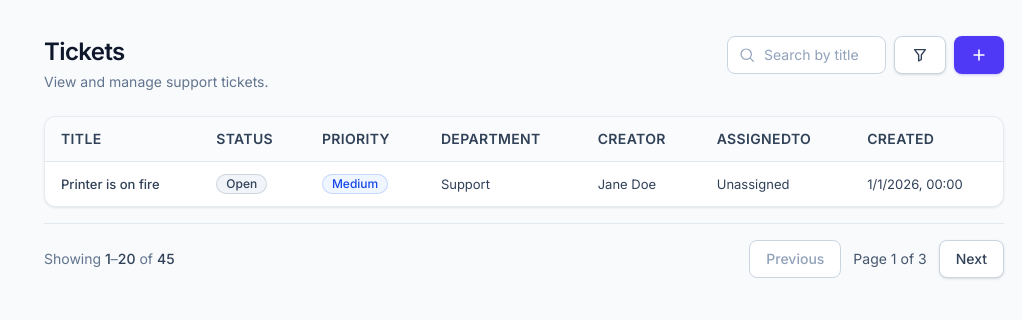
Scenario: TicketsListPage › reflects the current page and filters in the URL so the view can be bookmarked or shared
Click the button "Next": (971, 259) [939, 240, 1004, 278]
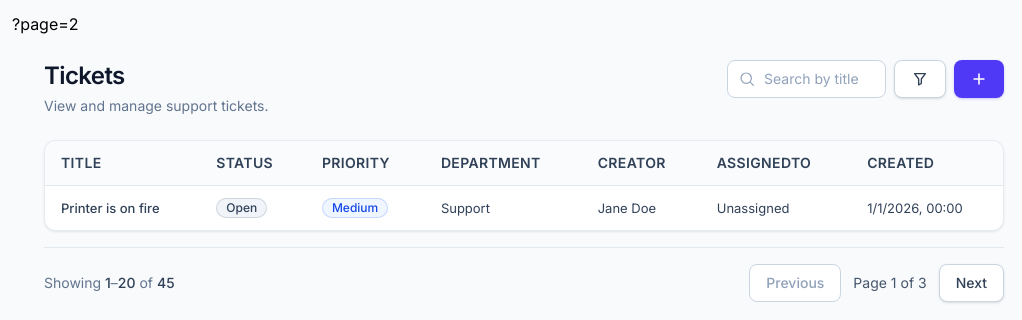
Check: the text with test id "location-search" shows "page=2", box [12, 14, 79, 34]
